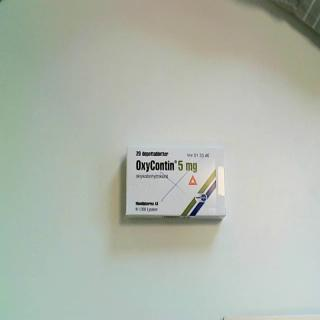oxycontin5mg: (124, 144, 228, 222)
